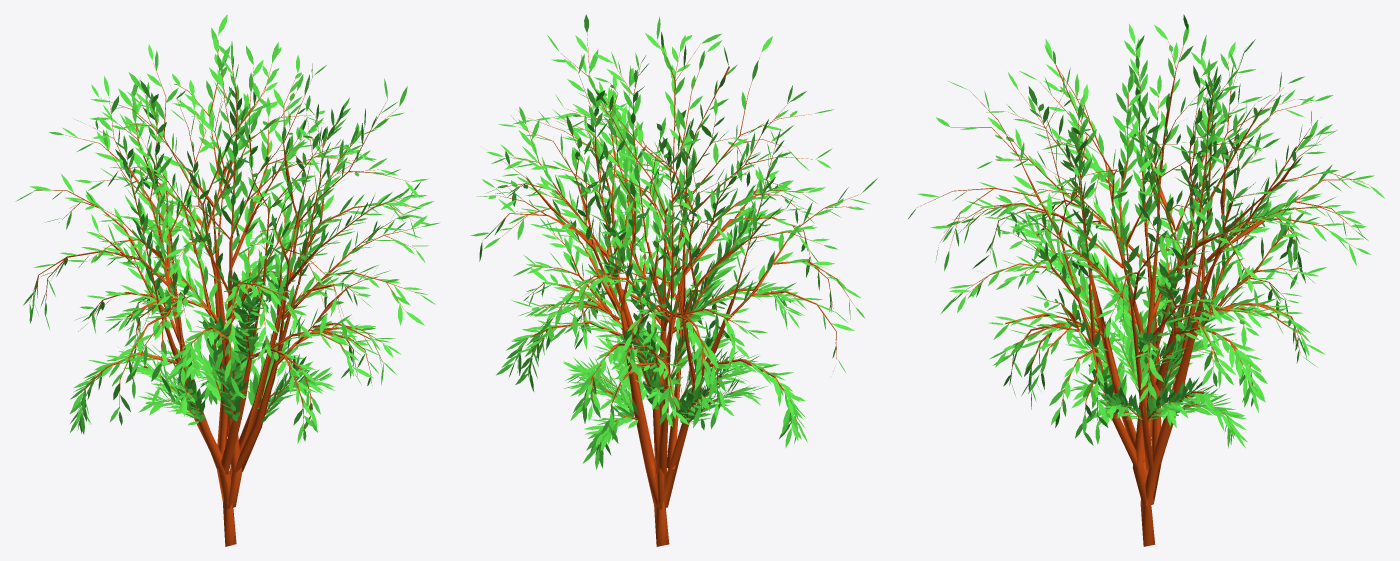
File: tree test 0.8.fbx
3 views of the same model, side by side, from view 1: azimuth 30°, elevation 25°; view 2: azimuth 150°, elevation 25°; view 3: azimuth 270°, elevation 25° (orthographic). The views are drawn at different scales.
Parts seen in each view (by area): view 1: leaves, tree; view 2: leaves, tree; view 3: leaves, tree.
Boxes of the visible parts, x1,y1,x2,y2 form: leaves: (15,14,440,443); tree: (29,35,418,546); leaves: (470,14,878,469); tree: (482,33,860,546); leaves: (908,14,1384,448); tree: (917,32,1368,546).
Size of the model in its own units: 680 by 850 by 746.
